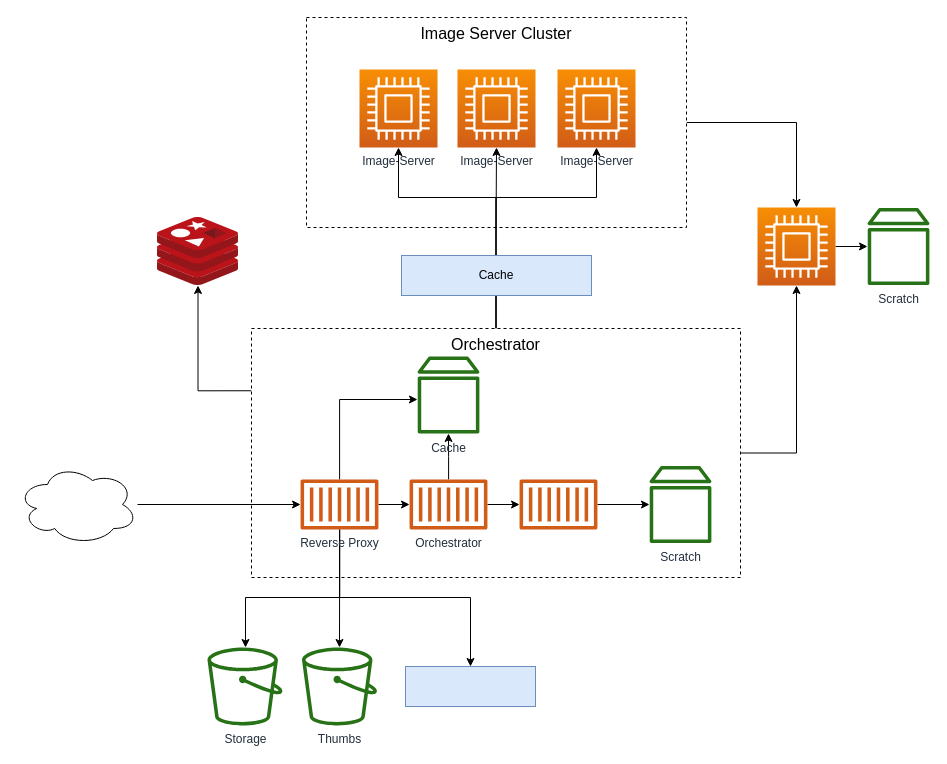
Image size: 947x764. Some labels were removed from this diagram. Here are the shapes that lost their labels. From the top down, the centre of each, then its label:
At point (197, 251): "Distributed Lock".
At point (796, 246): "Fileshare".
At point (558, 504): "Fireball".
At point (470, 686): "Special Server".
